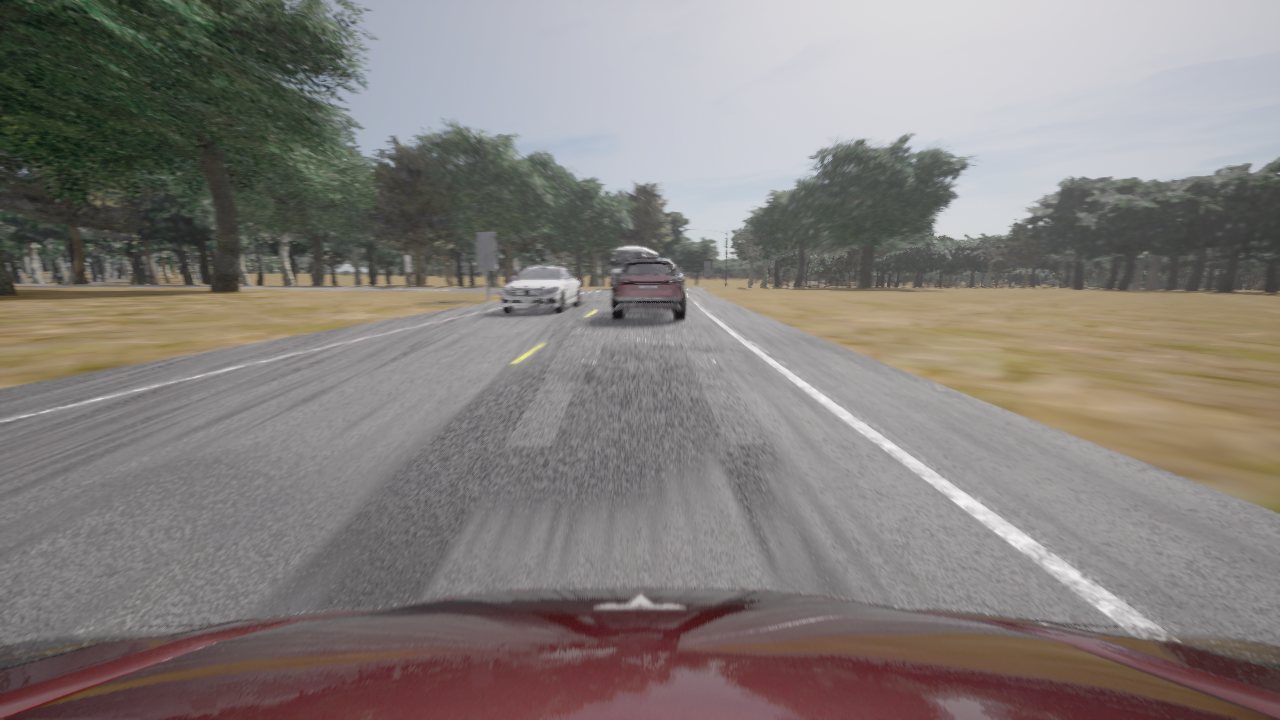cyclist: (0, 588, 1279, 719), (612, 256, 686, 319), (498, 266, 583, 313), (609, 246, 657, 283), (675, 265, 683, 275)
